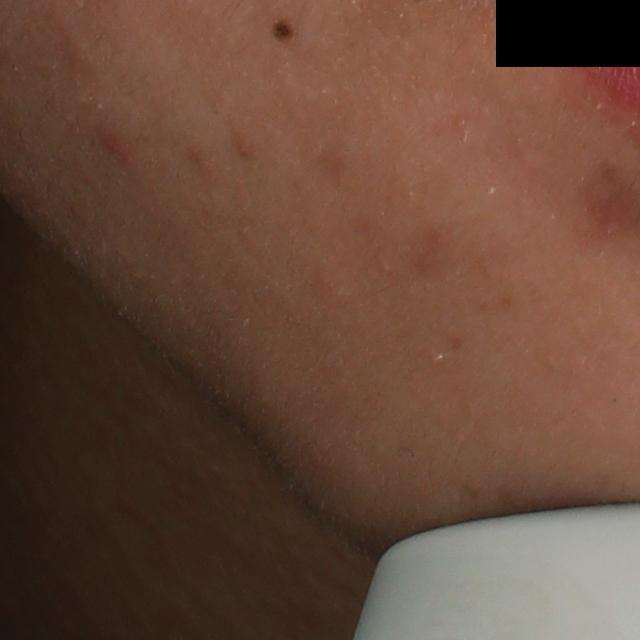nevus: (270, 18, 297, 45)
papule: (96, 124, 131, 158)
